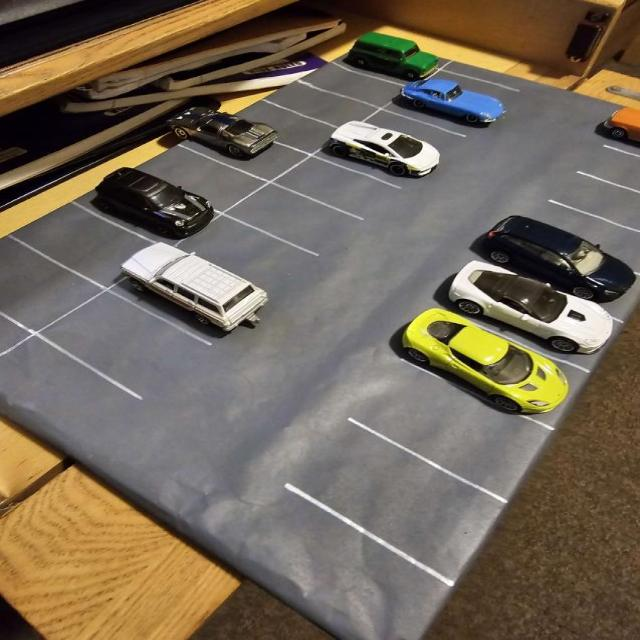Empty: (280, 417, 512, 590), (341, 360, 563, 511), (31, 285, 211, 405), (171, 210, 322, 296), (219, 181, 372, 259), (0, 233, 110, 335), (264, 153, 399, 223), (138, 145, 270, 213), (527, 201, 640, 274), (230, 100, 342, 157), (263, 80, 383, 132), (548, 171, 640, 238), (295, 61, 411, 111), (357, 107, 464, 156), (574, 142, 640, 196)
Taken: (395, 313, 597, 432), (448, 257, 625, 376), (100, 246, 292, 347), (472, 216, 640, 326), (73, 173, 229, 249), (308, 124, 445, 190), (180, 124, 316, 183), (375, 79, 509, 136), (333, 45, 443, 87), (605, 105, 640, 160)
